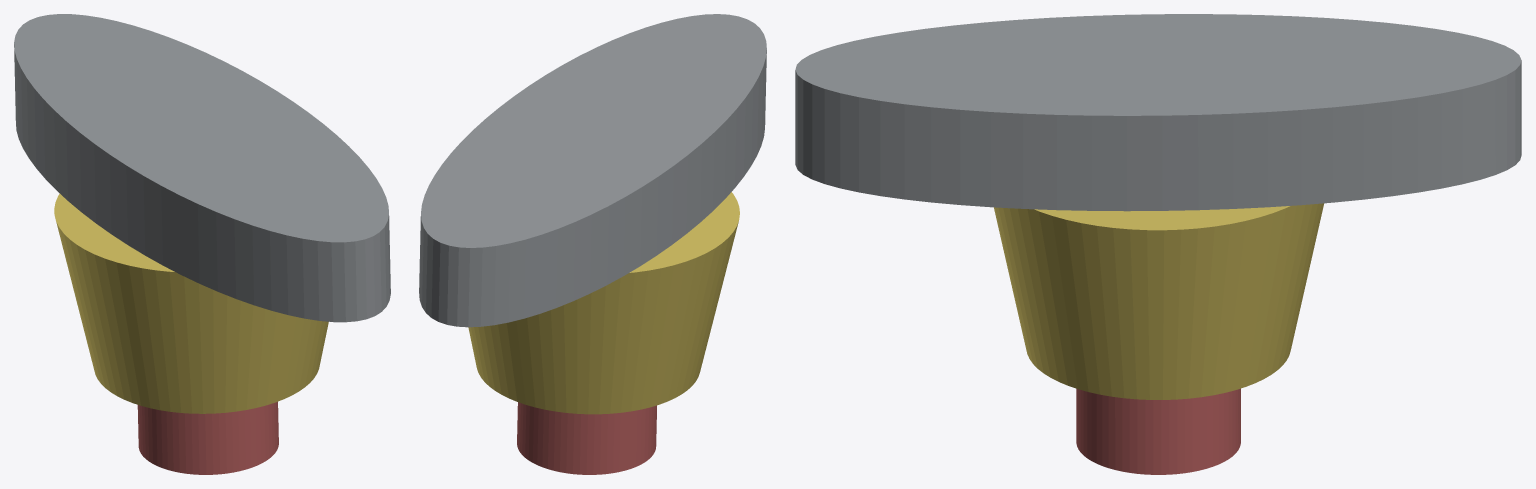
Rendered from reference-candidate.glb.
3 renders of one model, left to right at view 1: azimuth 30°, elevation 25°; view 2: azimuth 150°, elevation 25°; view 3: azimuth 270°, elevation 25°, orthographic. The views are drawn at different scales.
Visible parts, largest first — view 1: gray-housing, yellow-body, red-actuator; view 2: gray-housing, yellow-body, red-actuator; view 3: gray-housing, yellow-body, red-actuator.
Boxes of the visible parts, bbox=[...] form: gray-housing: bbox=[14, 14, 390, 322]; yellow-body: bbox=[54, 194, 328, 413]; red-actuator: bbox=[137, 401, 278, 474]; gray-housing: bbox=[419, 14, 766, 327]; yellow-body: bbox=[468, 192, 739, 414]; red-actuator: bbox=[517, 402, 656, 474]; gray-housing: bbox=[795, 14, 1521, 211]; yellow-body: bbox=[994, 203, 1324, 399]; red-actuator: bbox=[1076, 388, 1240, 474].
Bounding box in the file's own units: 0.1298 × 0.1546 × 0.2696.
